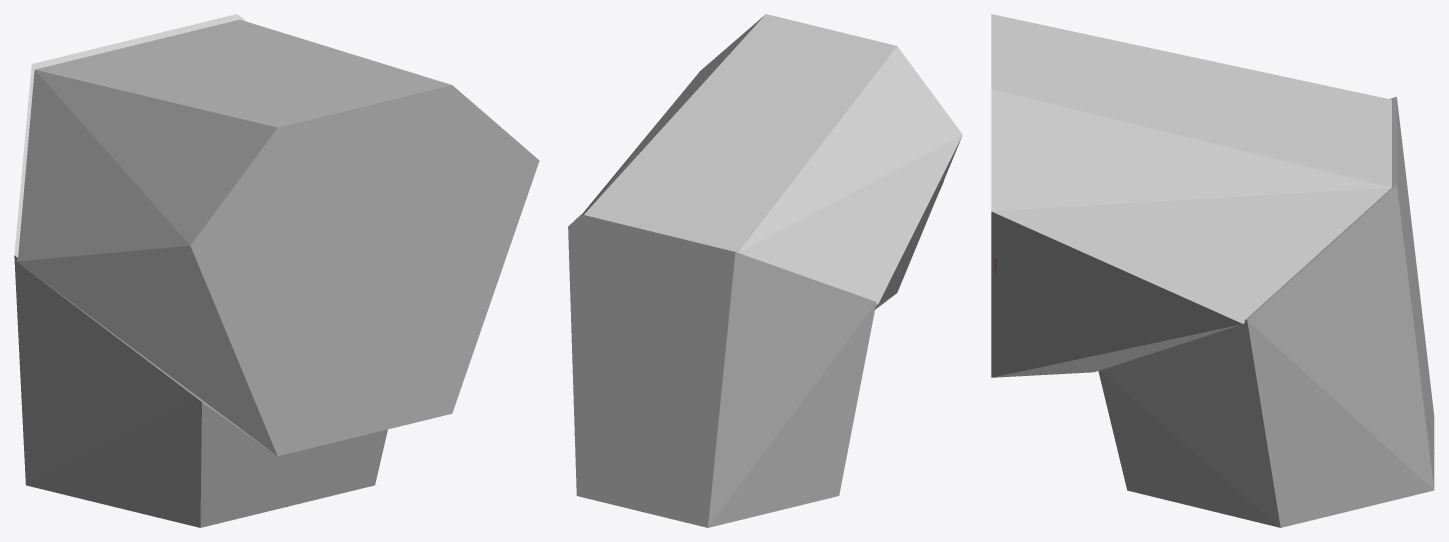
File: SM_PipeEnd.fbx
3 views of the same model, side by side, from view 1: azimuth 30°, elevation 25°; view 2: azimuth 150°, elevation 25°; view 3: azimuth 270°, elevation 25° (orthographic). The views are drawn at different scales.
Visible parts, largest first — view 1: SM_PipeEnd_ConvexHulls; view 2: SM_PipeEnd_ConvexHulls; view 3: SM_PipeEnd_ConvexHulls.
Boxes of the visible parts, x1,y1,x2,y2 form: SM_PipeEnd_ConvexHulls: [14, 14, 539, 527]; SM_PipeEnd_ConvexHulls: [568, 14, 962, 527]; SM_PipeEnd_ConvexHulls: [991, 14, 1434, 527].
Size of the model in its own units: 49.26 by 52.4 by 52.39.
Materials: 2 (1 with a texture image).
